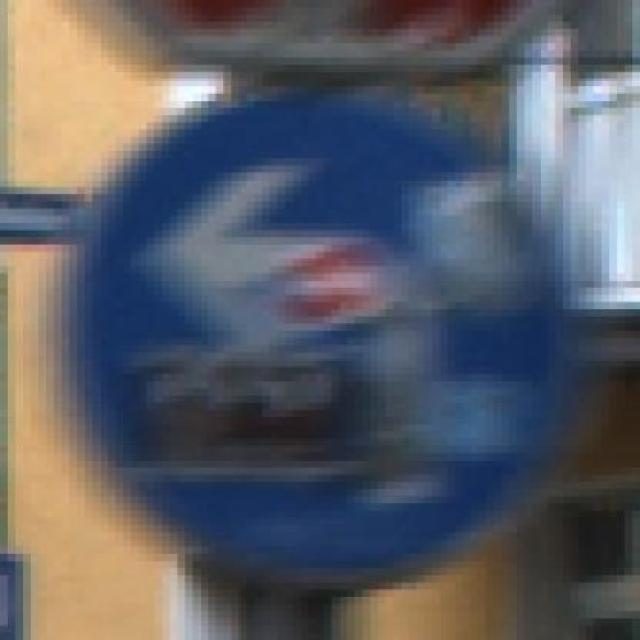Turn left ahead: (62, 94, 570, 575)
